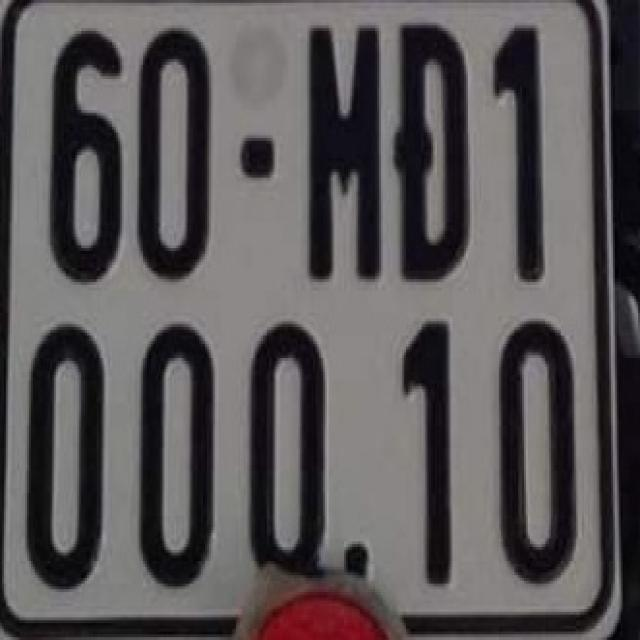0: (243, 313, 334, 578), (23, 318, 108, 592), (495, 313, 580, 586), (134, 318, 218, 590), (133, 22, 214, 280)
1: (394, 312, 466, 590), (490, 20, 554, 282)
6: (46, 22, 126, 282)
D: (392, 20, 473, 282)
M: (297, 15, 386, 286)
